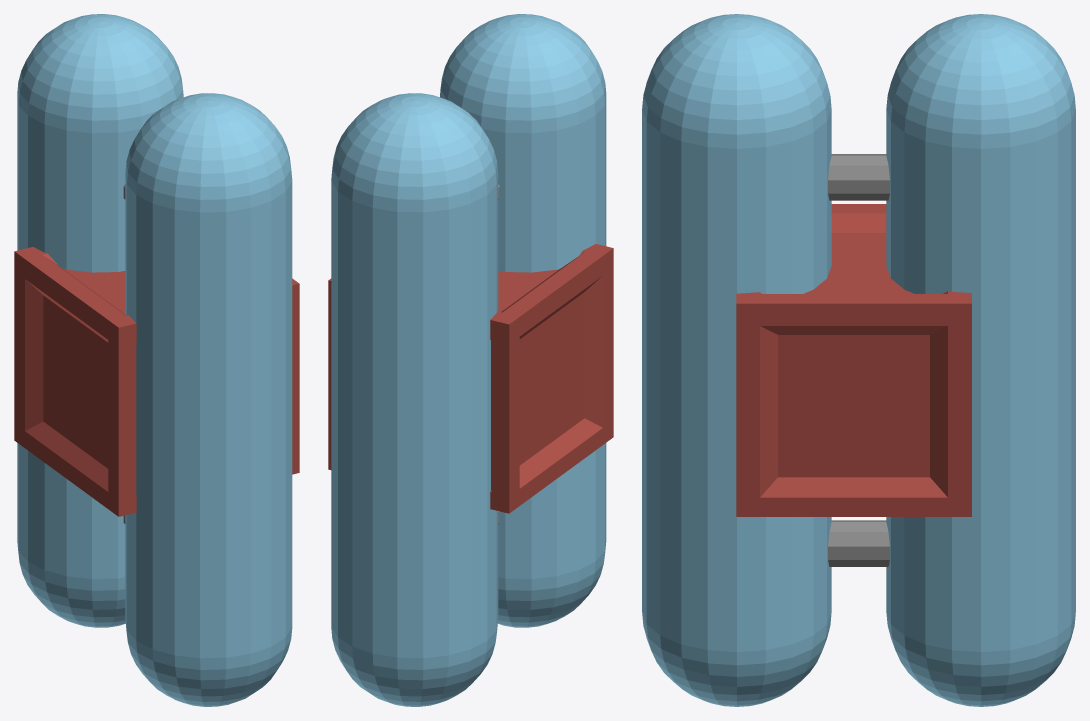
Rendered from fuel.fbx.
3 renders of one model, left to right at view 1: azimuth 30°, elevation 25°; view 2: azimuth 150°, elevation 25°; view 3: azimuth 270°, elevation 25°, orthographic. The views are drawn at different scales.
Parts seen in each view (by area): view 1: Cylinder, Cylinder.001, Cube; view 2: Cylinder.001, Cylinder, Cube; view 3: Cylinder.001, Cylinder, Cube, Cylinder.002.
Part boxes in pixels (bbox=[...]): Cylinder: bbox=[125, 93, 292, 706]; Cylinder.001: bbox=[17, 14, 183, 627]; Cube: bbox=[14, 247, 299, 516]; Cylinder.001: bbox=[331, 93, 498, 706]; Cylinder: bbox=[440, 14, 606, 627]; Cube: bbox=[328, 244, 613, 513]; Cylinder.001: bbox=[886, 14, 1075, 706]; Cylinder: bbox=[642, 14, 831, 706]; Cube: bbox=[736, 204, 971, 516]; Cylinder.002: bbox=[828, 154, 889, 566].
Size of the model in its own units: 33.61 by 106 by 61.88.
